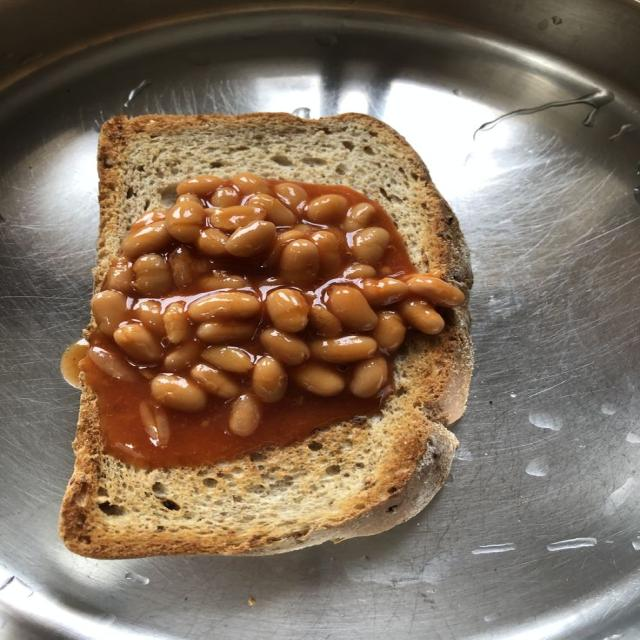sliced_bread: (59, 114, 471, 558), (60, 308, 472, 558)
